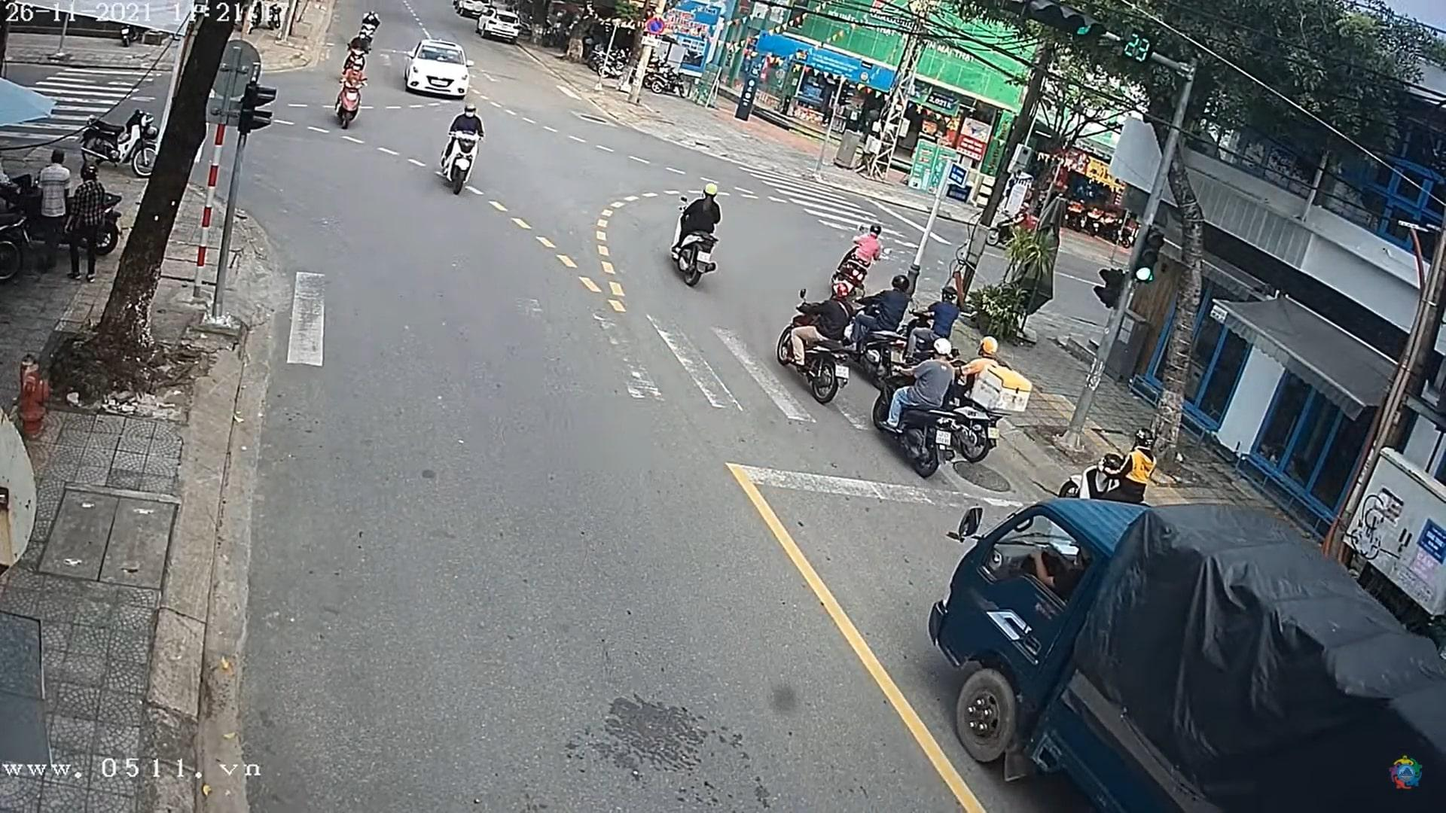car: (401, 38, 476, 97), (453, 2, 493, 20)
motorbike: (874, 360, 958, 487), (776, 292, 855, 407), (679, 213, 720, 291), (443, 126, 483, 197), (332, 81, 369, 136)
truck: (918, 489, 1441, 812)
